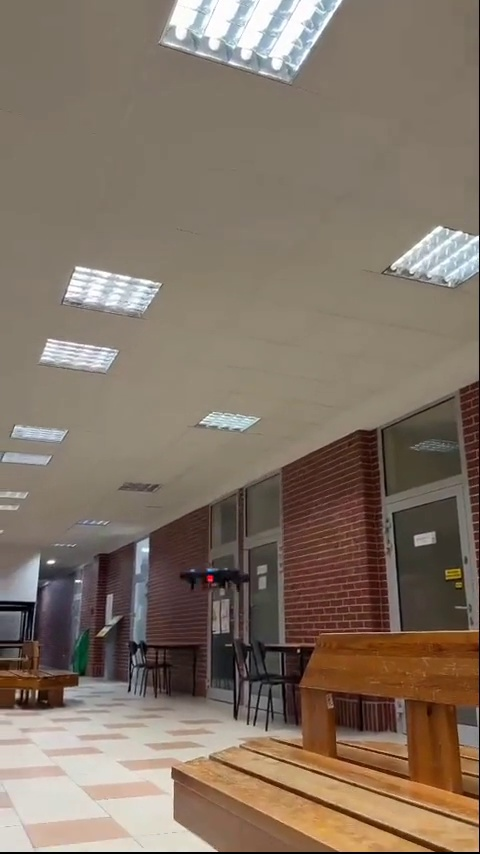drone: (182, 568, 253, 590)
